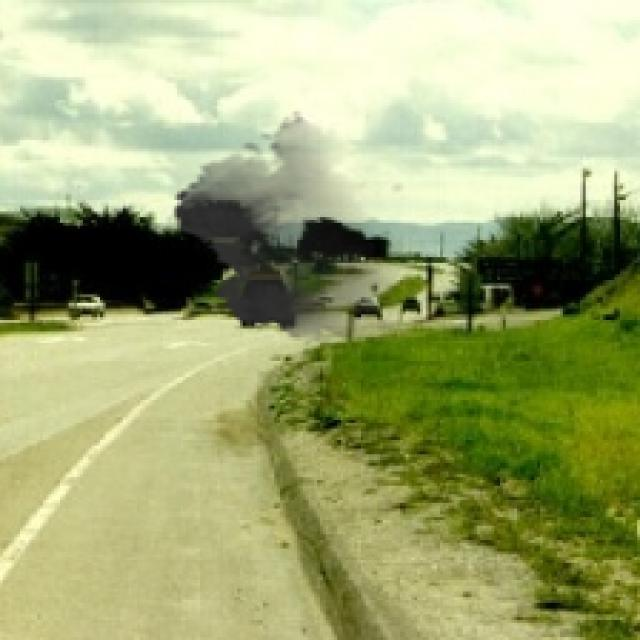Smoke: (162, 108, 418, 346)
